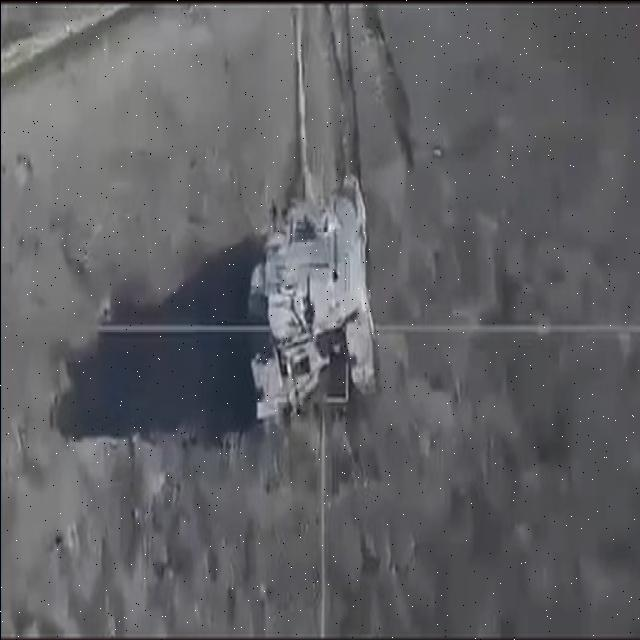ART: (242, 162, 382, 422)
